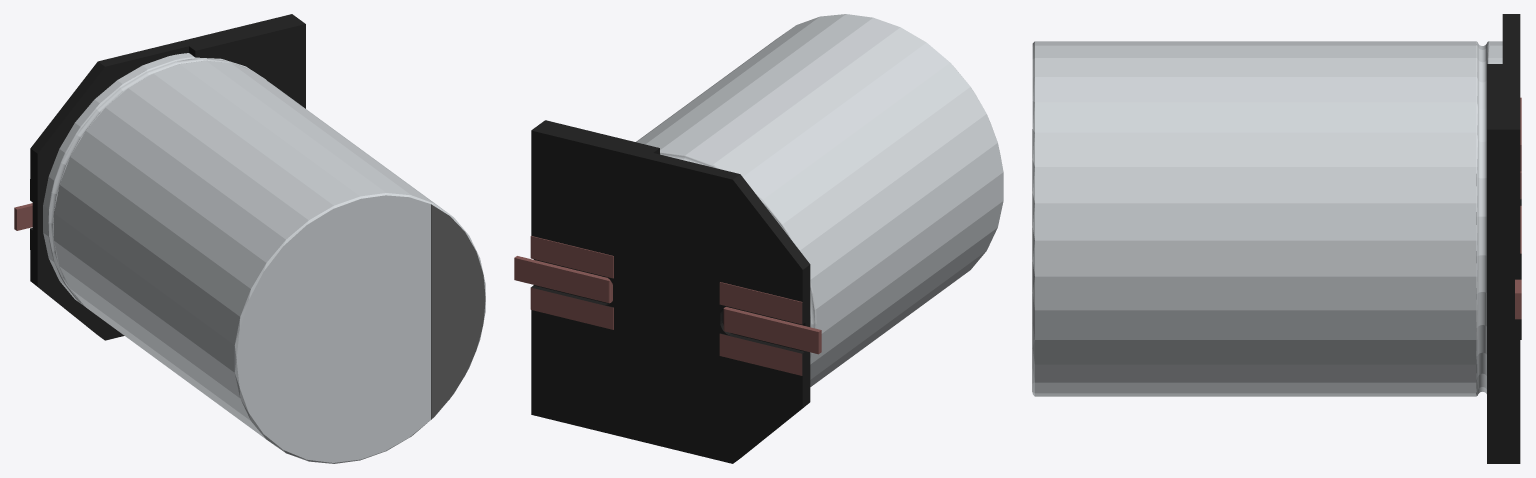
The model's file is Vishay 146 CTI 1621.obj.
The picture shows the model from 3 angles, left to right: view 1: azimuth 30°, elevation 25°; view 2: azimuth 150°, elevation 25°; view 3: azimuth 270°, elevation 25°; orthographic projection. The views are drawn at different scales.
Parts seen in each view (by area): view 1: Vishay_146_CTI_1621; view 2: Vishay_146_CTI_1621; view 3: Vishay_146_CTI_1621.
Boxes of the visible parts, x1,y1,x2,y2 form: Vishay_146_CTI_1621: (14,14,485,463); Vishay_146_CTI_1621: (514,14,1003,463); Vishay_146_CTI_1621: (1032,14,1521,463).
Size of the model in its own units: 0.0102 by 0.00908 by 0.012.
